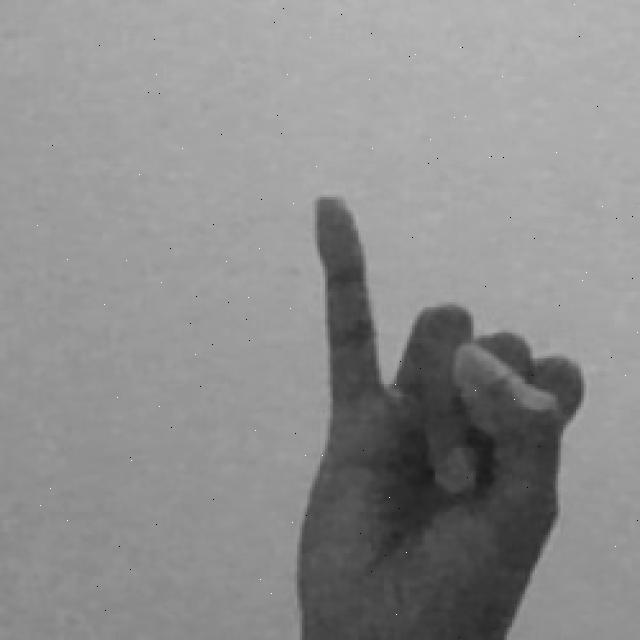I: (294, 192, 586, 640)
